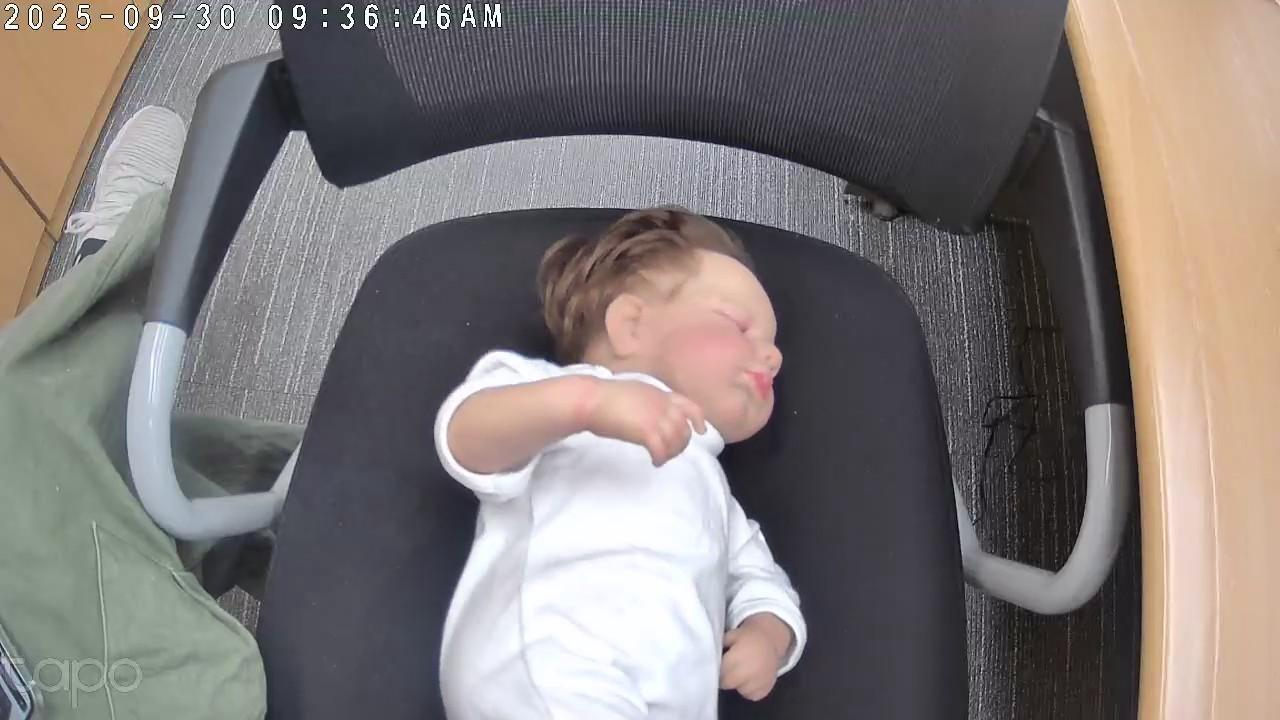hand: (595, 379, 708, 467), (714, 620, 789, 700)
